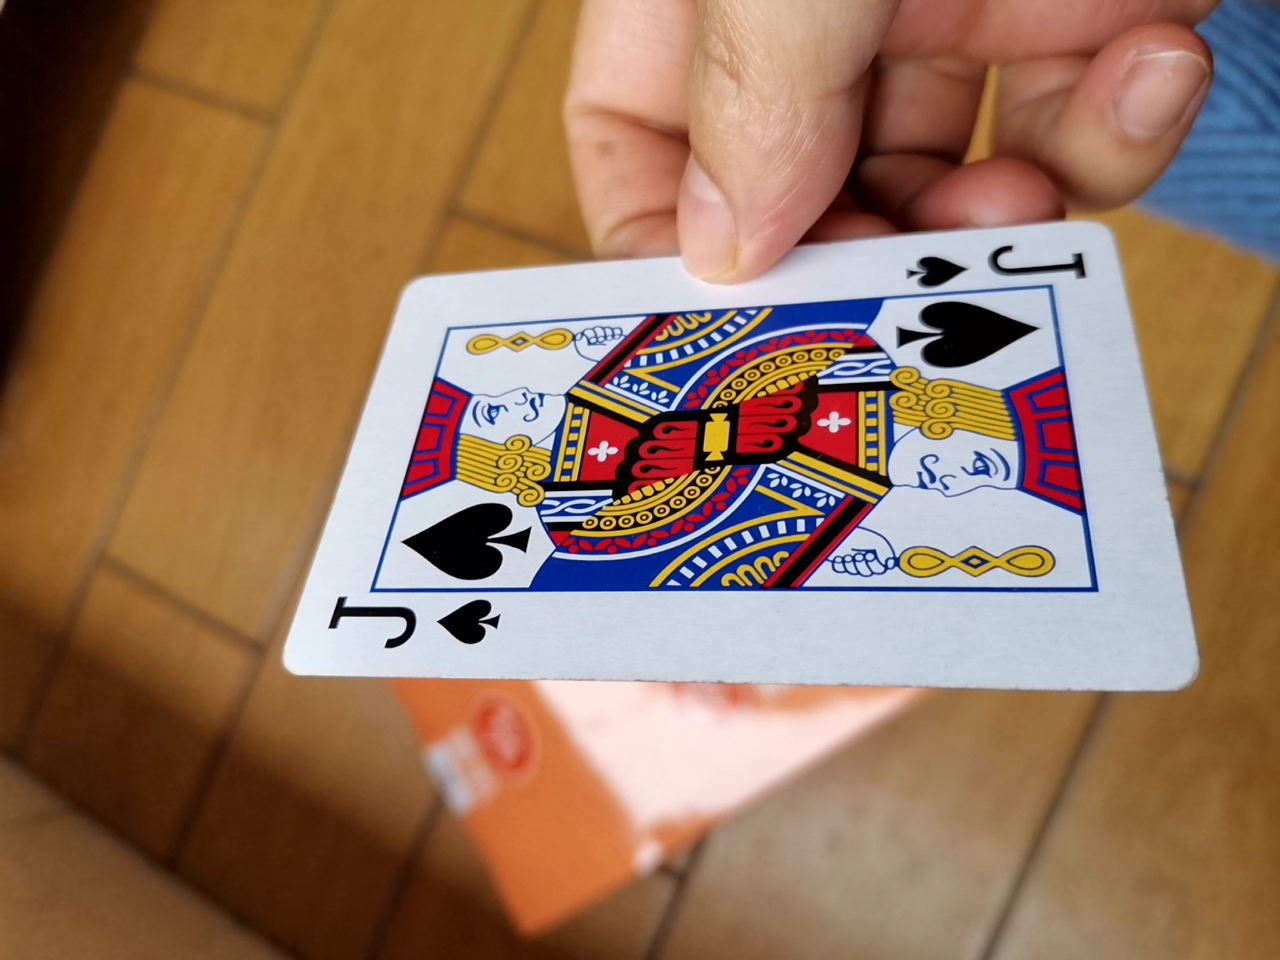ht j: (248, 220, 1202, 711)
